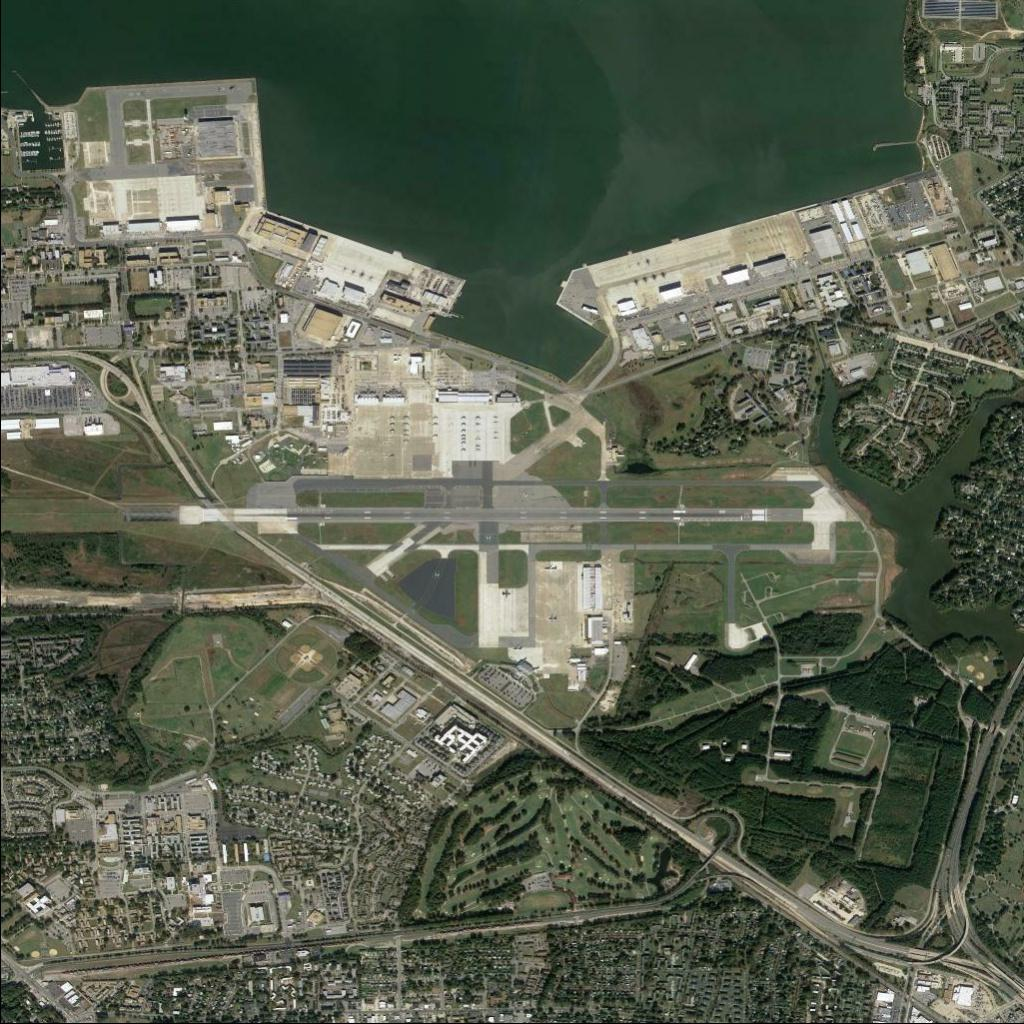harbor: (19, 132, 40, 139), (21, 142, 42, 148), (22, 151, 40, 157), (45, 131, 61, 135)
